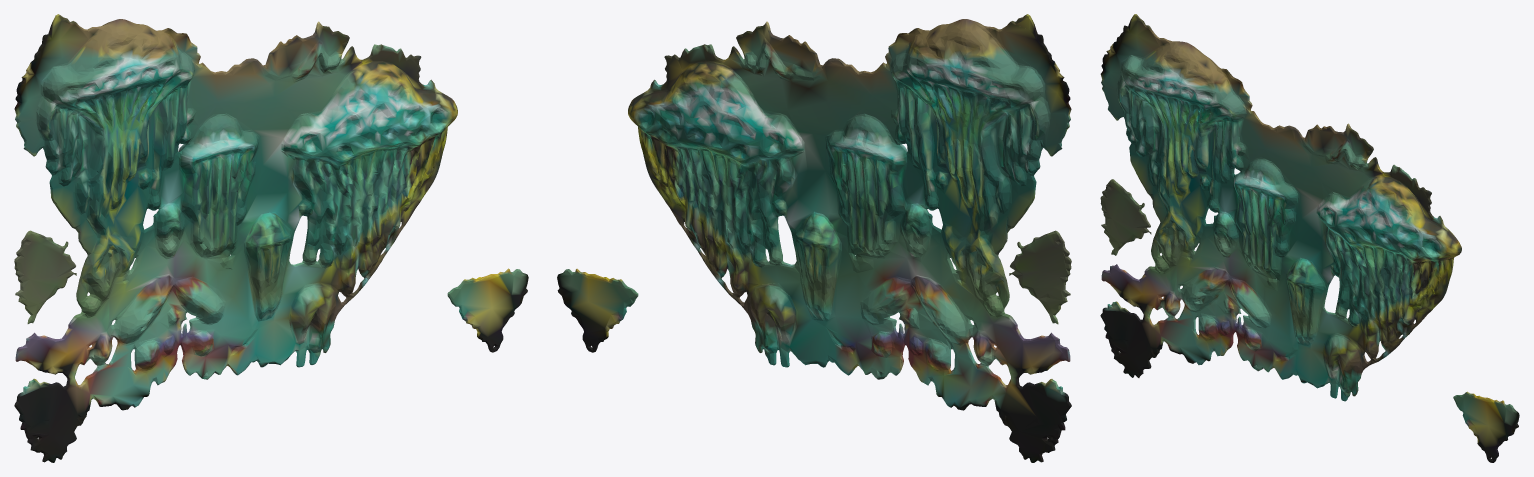
File: necromancer.glb
3 views of the same model, side by side, from view 1: azimuth 30°, elevation 25°; view 2: azimuth 150°, elevation 25°; view 3: azimuth 330°, elevation 25° (orthographic). The views are drawn at different scales.
Parts seen in each view (by area): view 1: world; view 2: world; view 3: world.
Boxes of the visible parts, <box> form: world: <box>14,14,528,462</box>; world: <box>557,14,1071,462</box>; world: <box>1100,14,1519,462</box>.
Size of the model in its own units: 1.2 by 1 by 0.1182.
